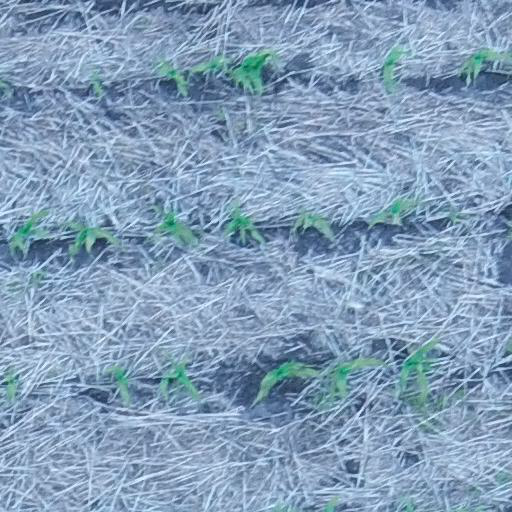planta: (399, 337, 439, 402), (256, 362, 320, 399), (227, 50, 275, 94), (332, 358, 385, 397), (64, 222, 120, 256), (8, 209, 49, 254), (152, 204, 198, 244), (158, 357, 200, 399), (224, 202, 265, 244), (368, 196, 417, 225), (459, 48, 502, 81), (382, 44, 408, 92), (294, 211, 333, 240), (155, 59, 187, 94), (105, 362, 129, 403), (189, 53, 230, 74), (3, 368, 16, 403)
